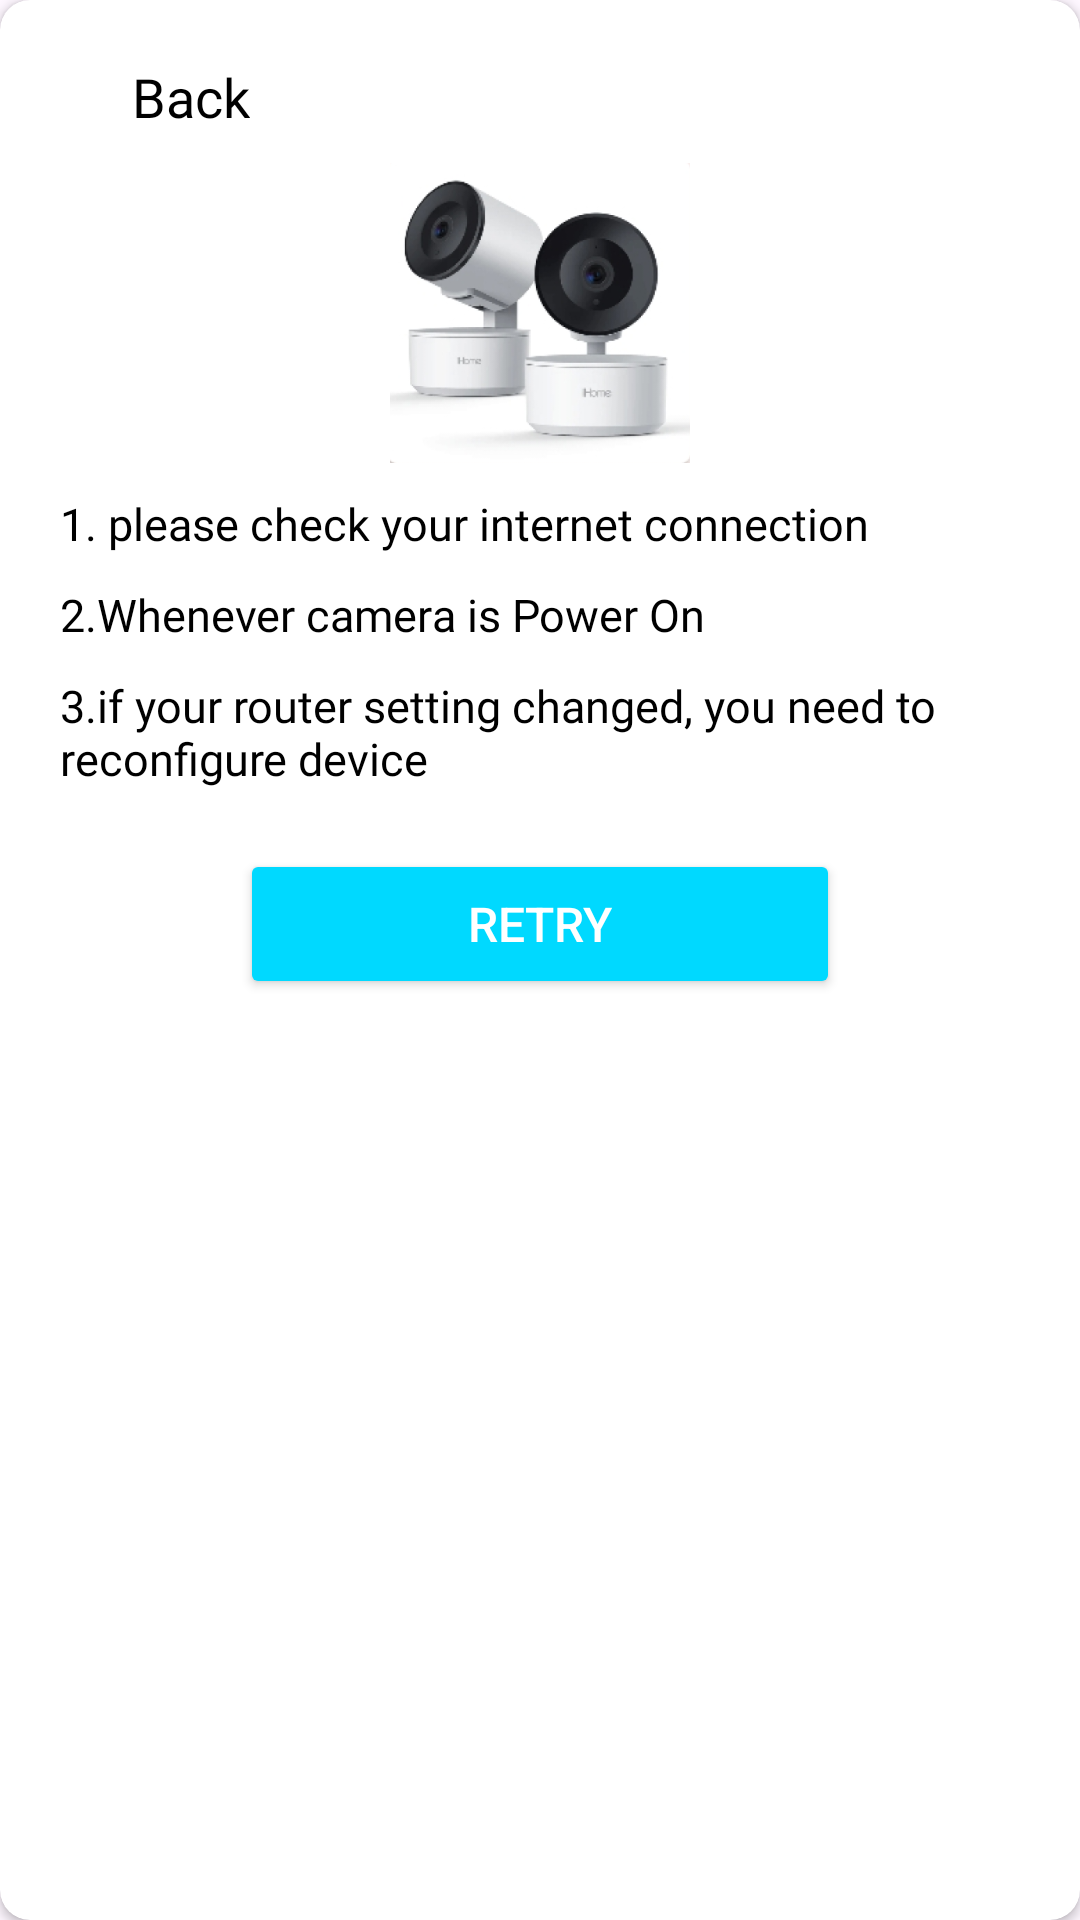

Where icons sit on this 1080 x 1920 app screen, as (x1, y1, x2, y2):
device: (390, 180, 690, 463)
